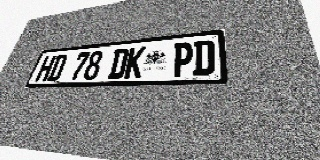7: (68, 52, 91, 81)
8: (82, 50, 105, 80)
D: (193, 39, 215, 76), (107, 48, 130, 79), (46, 54, 68, 82)
H: (34, 55, 57, 82)
K: (123, 46, 146, 79)
P: (171, 41, 193, 77)
